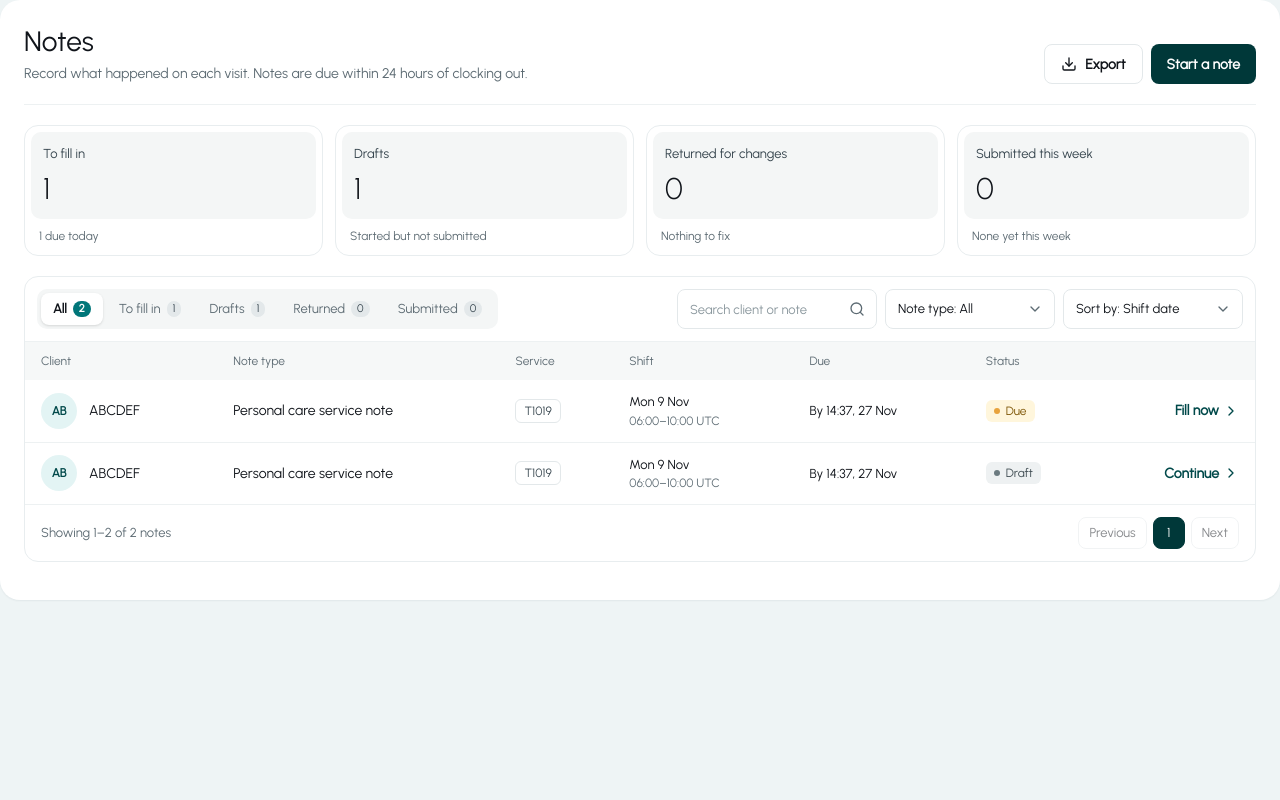
Notes list › filters by tab and search, then offers to clear
This screenshot has width=1280, height=800.
Click the tab "Drafts 1".
click(237, 309)  # box top-left (197, 293), bottom-right (277, 325)
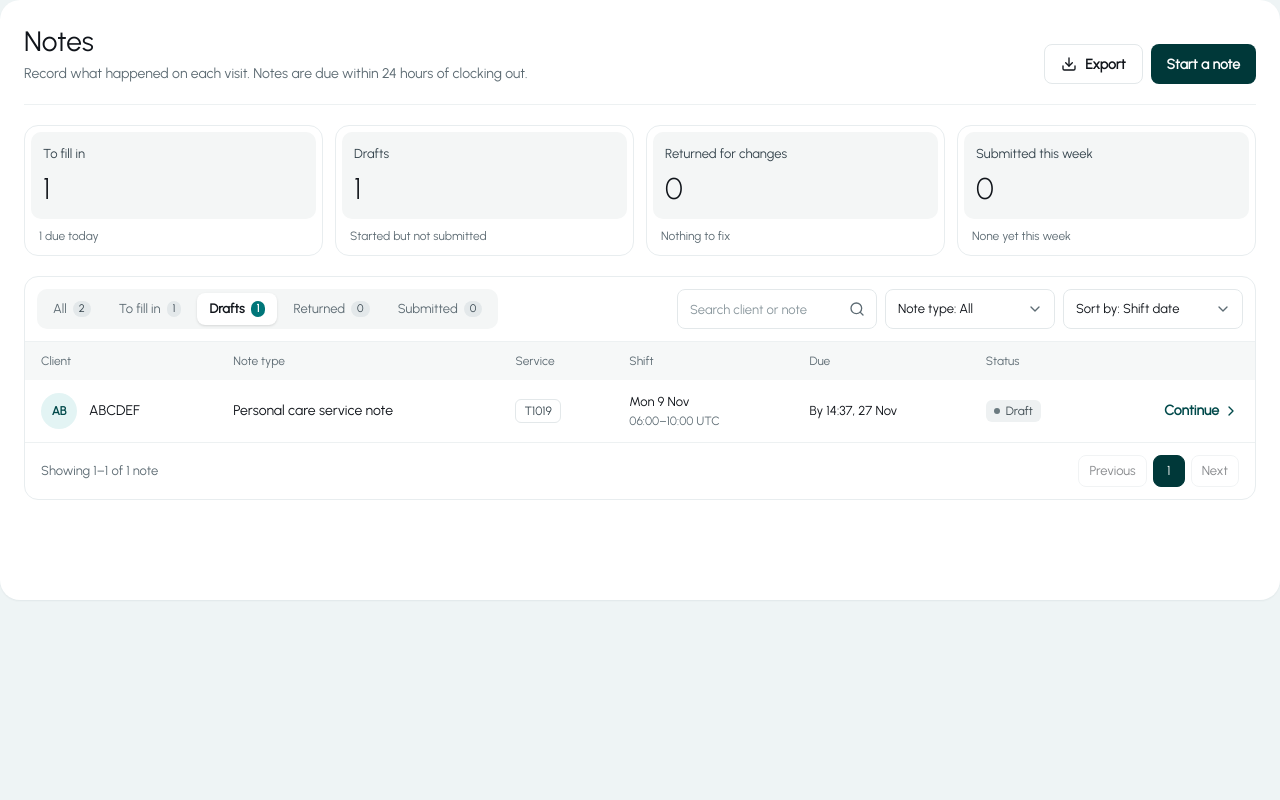
Expected: the number of rows is 2, top-left (25, 342), bottom-right (1255, 380); top-left (25, 380), bottom-right (1255, 442)
Type "nothing-like-this" into the search field named "Search notes".
click(777, 309); type("nothing-like-this")  # box top-left (677, 289), bottom-right (877, 329)
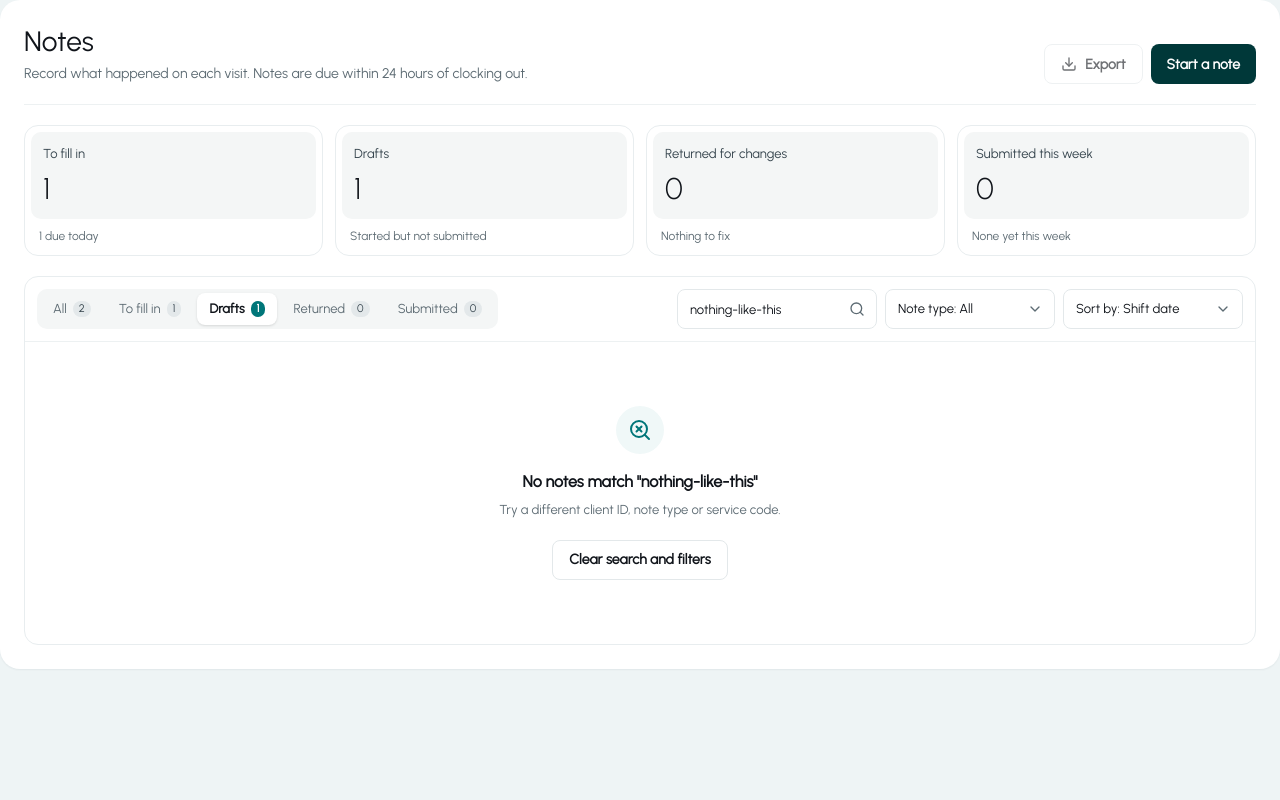
Result: the text "No notes match \"nothing-like-this\"" is shown at top-left (523, 470), bottom-right (757, 494)
Click the button "Clear search and filters".
click(640, 560)  # box top-left (552, 540), bottom-right (728, 580)
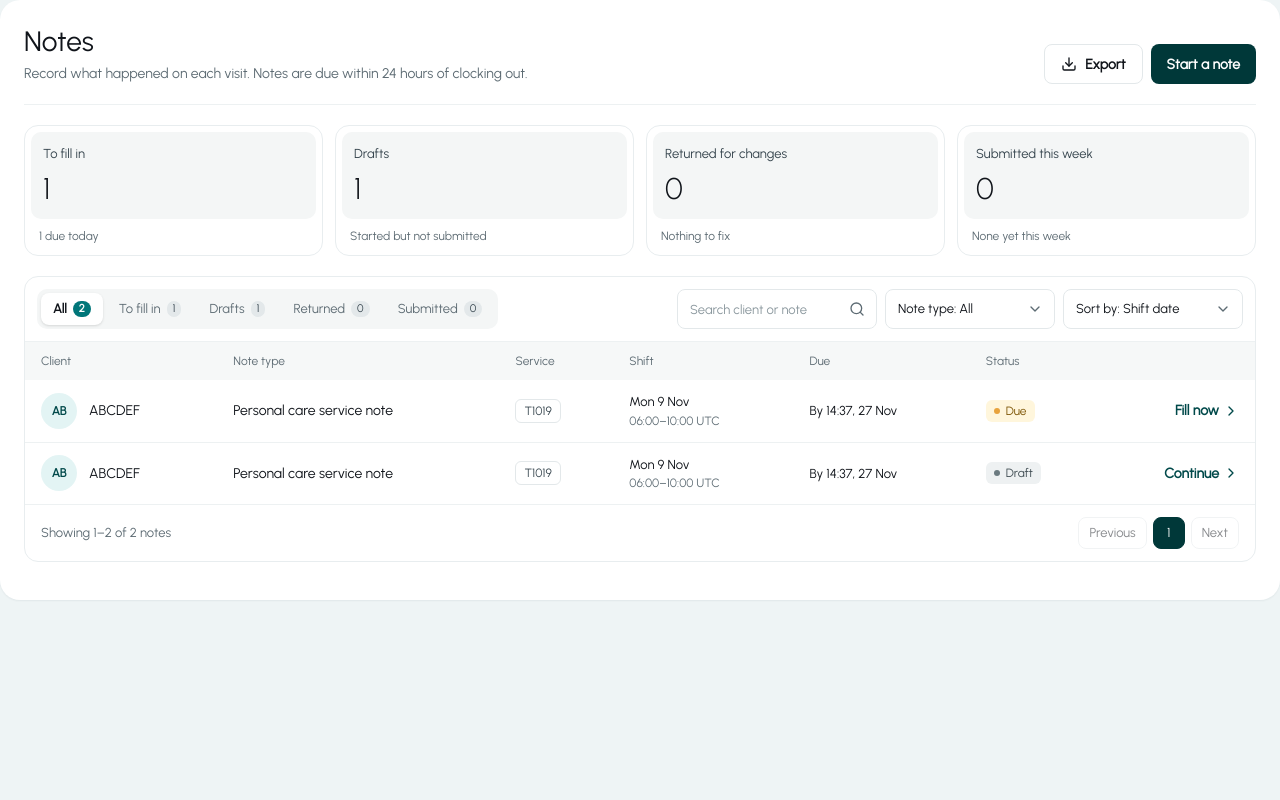
Result: the number of rows is 3 at top-left (25, 342), bottom-right (1255, 380); top-left (25, 380), bottom-right (1255, 442); top-left (25, 442), bottom-right (1255, 504)
